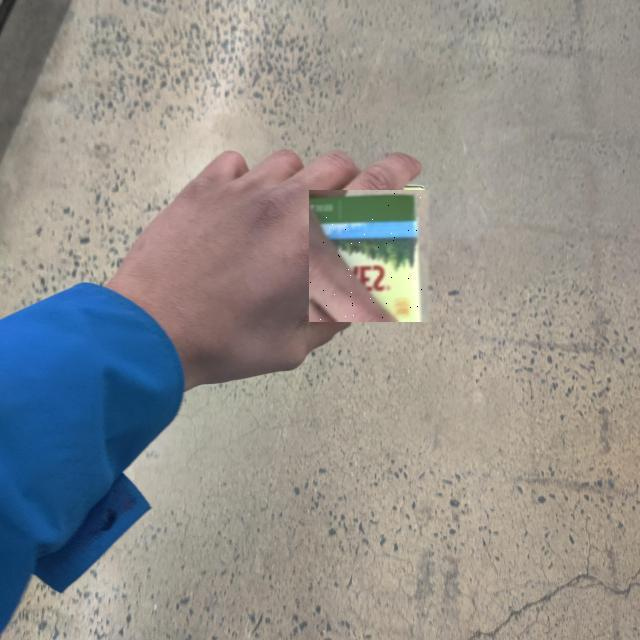Butter: (310, 190, 432, 322)
